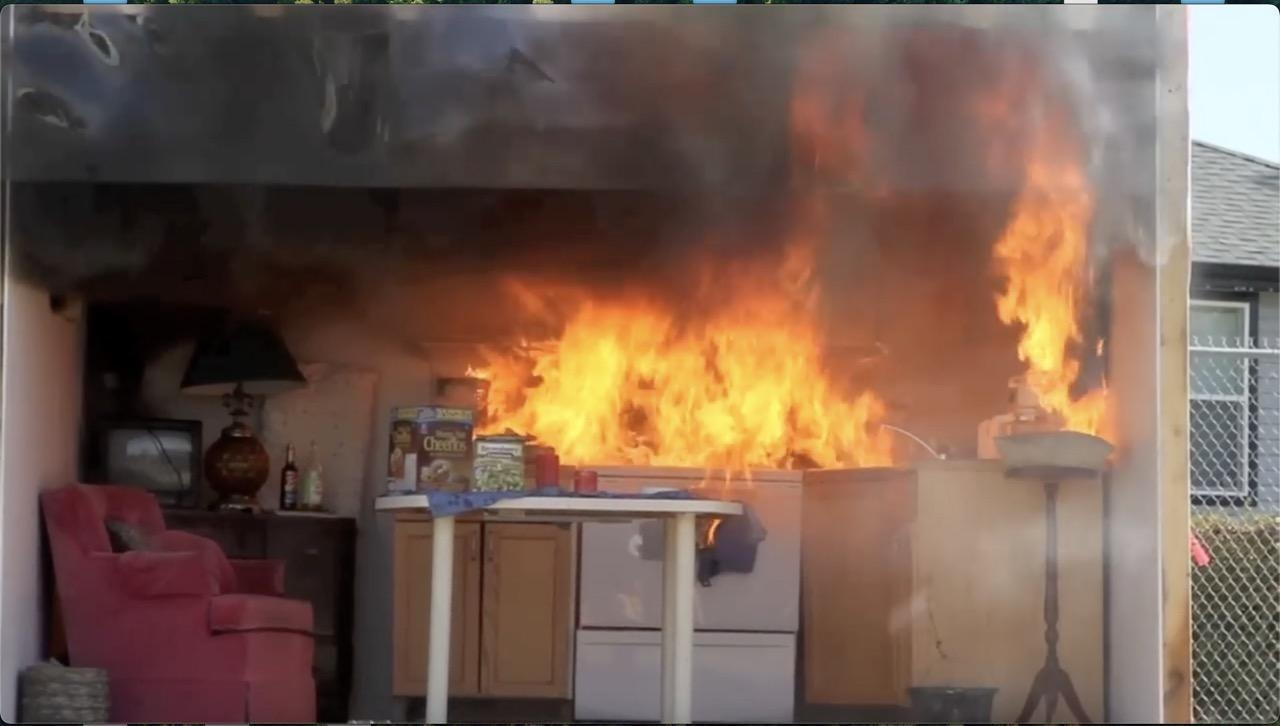fire: (426, 235, 1131, 514)
